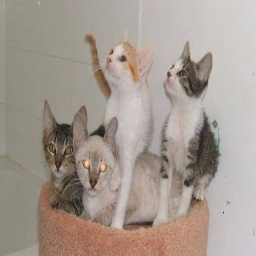cat: (35, 29, 230, 227)
